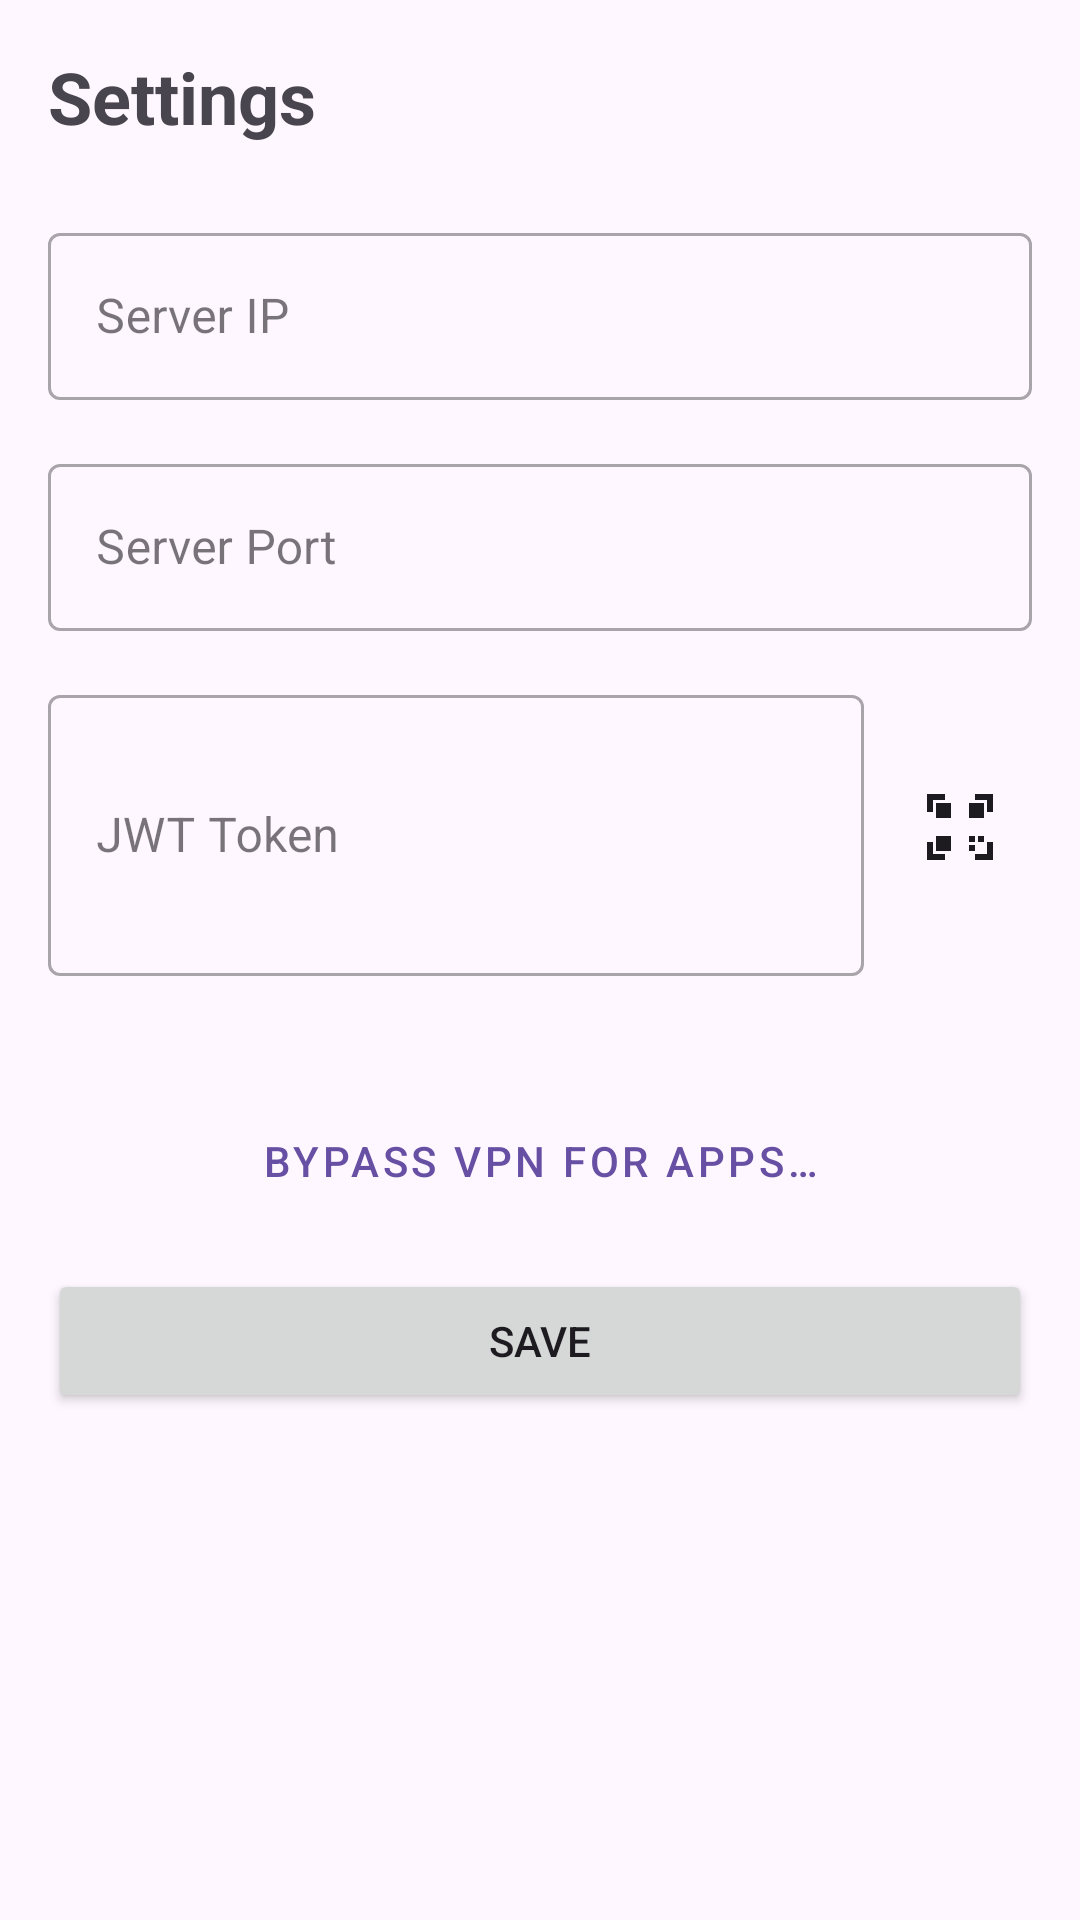

Icon click points for this 1080 × 1920 phone screenshot, format point (x, y):
Scan QR code: point (960, 827)
